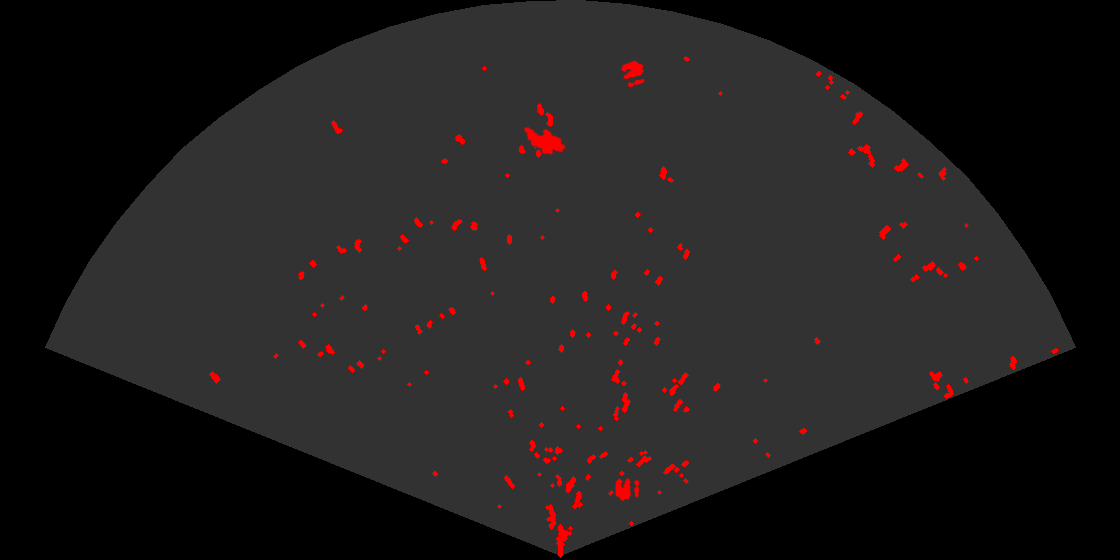AUV: (522, 125, 567, 156)
ball: (619, 59, 646, 89), (614, 476, 641, 502)
